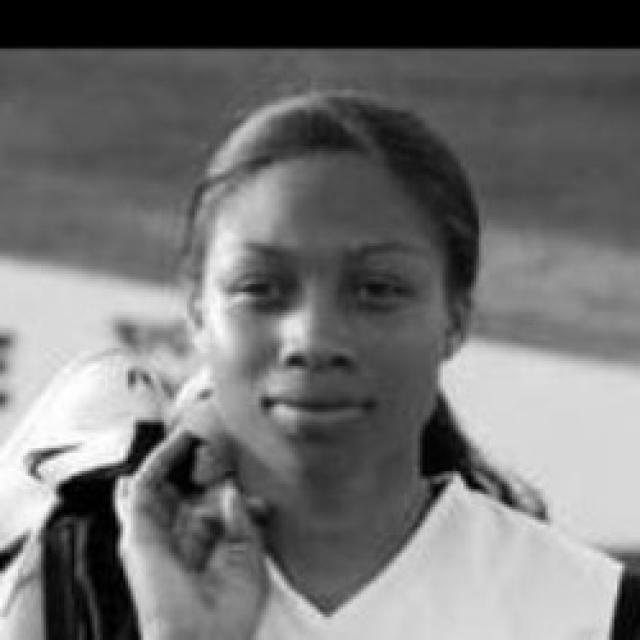real: (206, 162, 450, 488), (212, 248, 428, 325)
